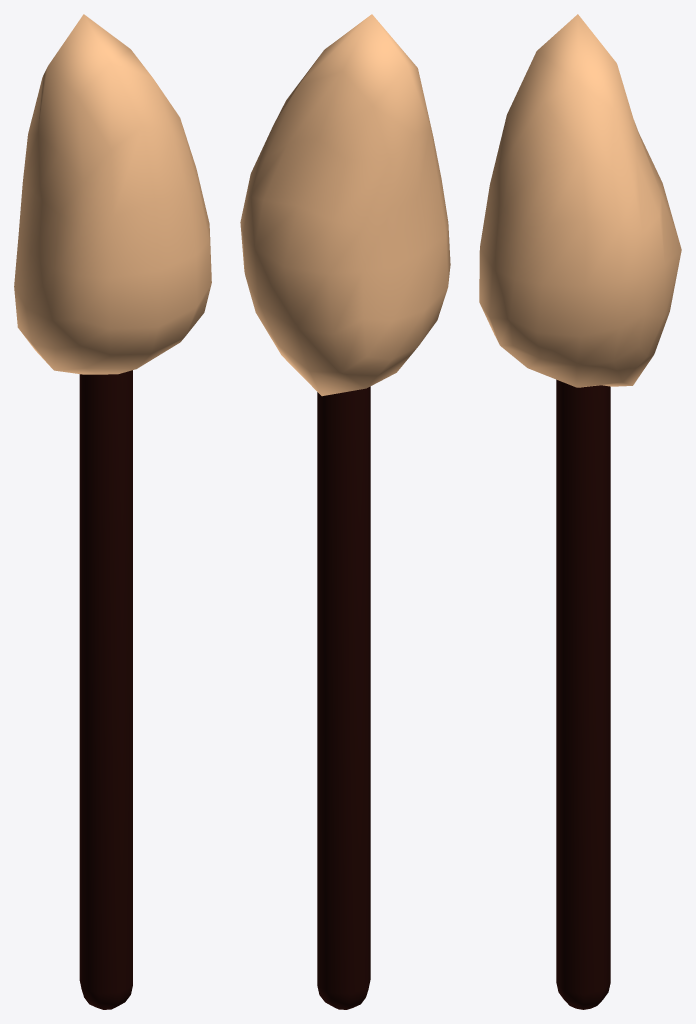
Rendered from SM.Mop.fbx.
3 views of the same model, side by side, from view 1: azimuth 30°, elevation 25°; view 2: azimuth 150°, elevation 25°; view 3: azimuth 270°, elevation 25° (orthographic). The views are drawn at different scales.
Parts seen in each view (by area): view 1: SM.Mop; view 2: SM.Mop; view 3: SM.Mop.
Boxes of the visible parts, x1=… form: SM.Mop: x1=14, y1=14, x2=211, y2=1009; SM.Mop: x1=240, y1=14, x2=450, y2=1009; SM.Mop: x1=479, y1=14, x2=681, y2=1009.
Size of the model in its own units: 0.3572 by 2 by 0.3736.
